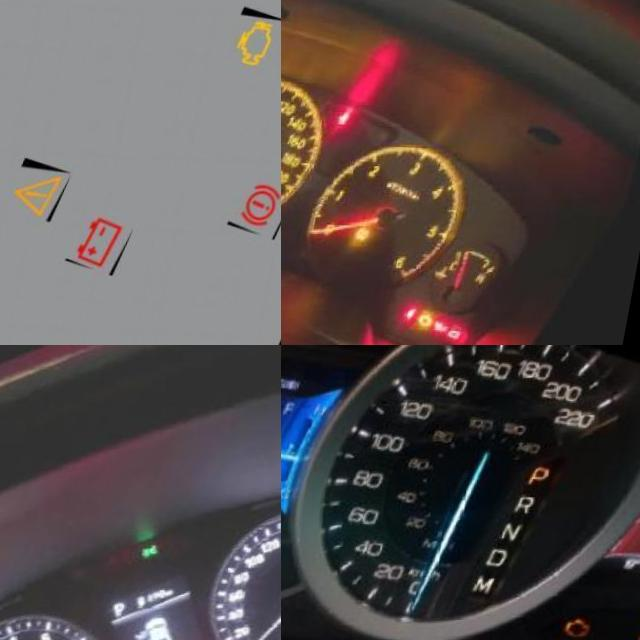High Engine Coolant Temperature: (450, 267, 472, 287)
Seat Belt: (423, 310, 440, 326)
